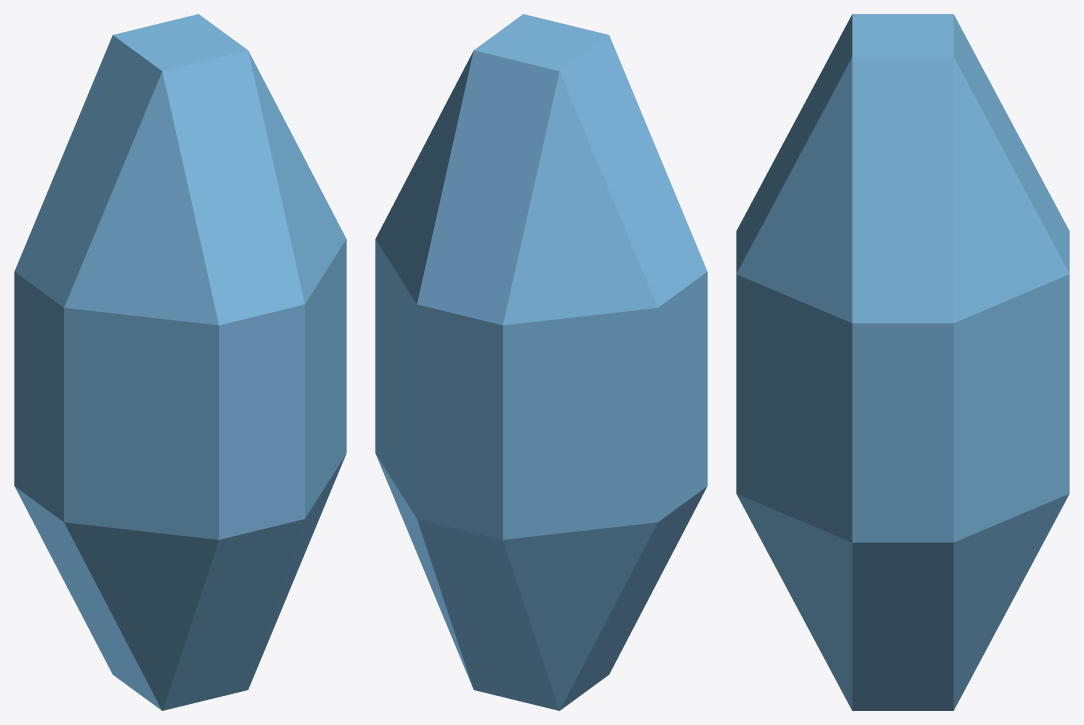
Rendered from Stone_.Water.glb.
3 views of the same model, side by side, from view 1: azimuth 30°, elevation 25°; view 2: azimuth 150°, elevation 25°; view 3: azimuth 270°, elevation 25° (orthographic). The views are drawn at different scales.
Visible parts, largest first — view 1: Stone_Water; view 2: Stone_Water; view 3: Stone_Water.
Part boxes in pixels (box(x1,y1,x2,y2)): Stone_Water: box(14, 14, 346, 710); Stone_Water: box(375, 14, 707, 710); Stone_Water: box(736, 14, 1069, 710).
Bounding box in the file's own units: 1.54 × 3.33 × 1.54.
